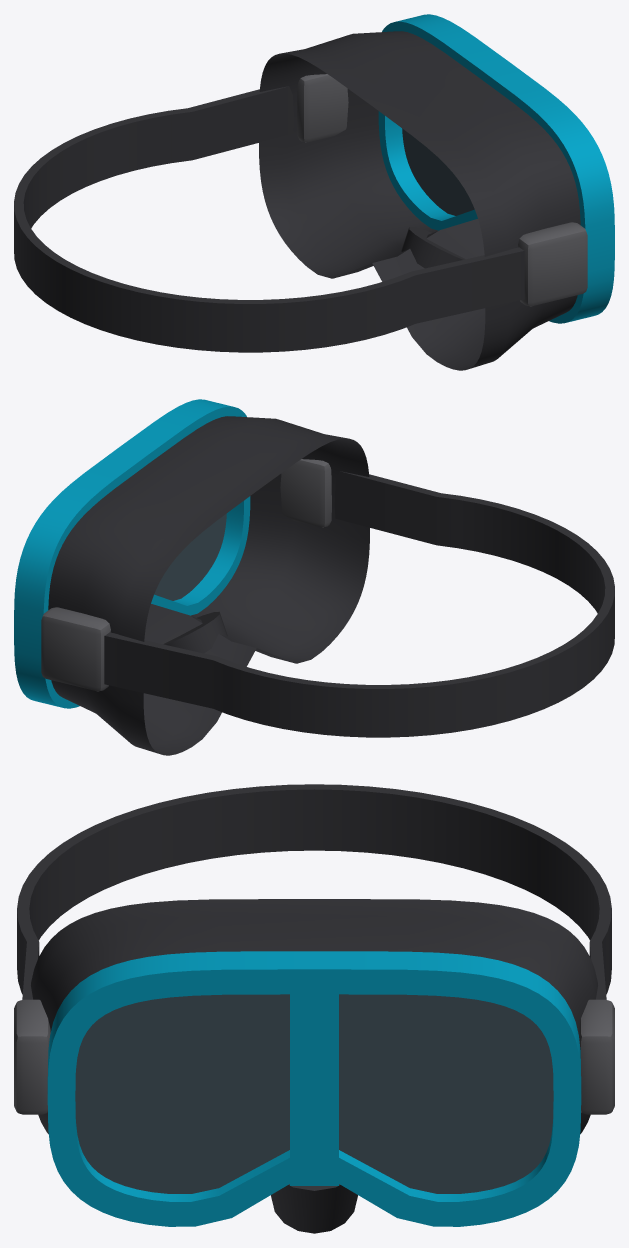
File: SM_DiveMask.fbx
3 views of the same model, one above another, from view 1: azimuth 30°, elevation 25°; view 2: azimuth 150°, elevation 25°; view 3: azimuth 270°, elevation 25° (orthographic). The views are drawn at different scales.
Visible parts, largest first — view 1: SM_DiveMask; view 2: SM_DiveMask; view 3: SM_DiveMask.
Part boxes in pixels (x1,y1,x2,y2): SM_DiveMask: (14, 14, 614, 370); SM_DiveMask: (14, 399, 614, 755); SM_DiveMask: (14, 784, 614, 1233).
Size of the model in its own units: 0.22 by 0.11 by 0.196.
